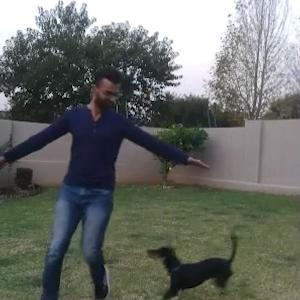land: (6, 76, 196, 286)
